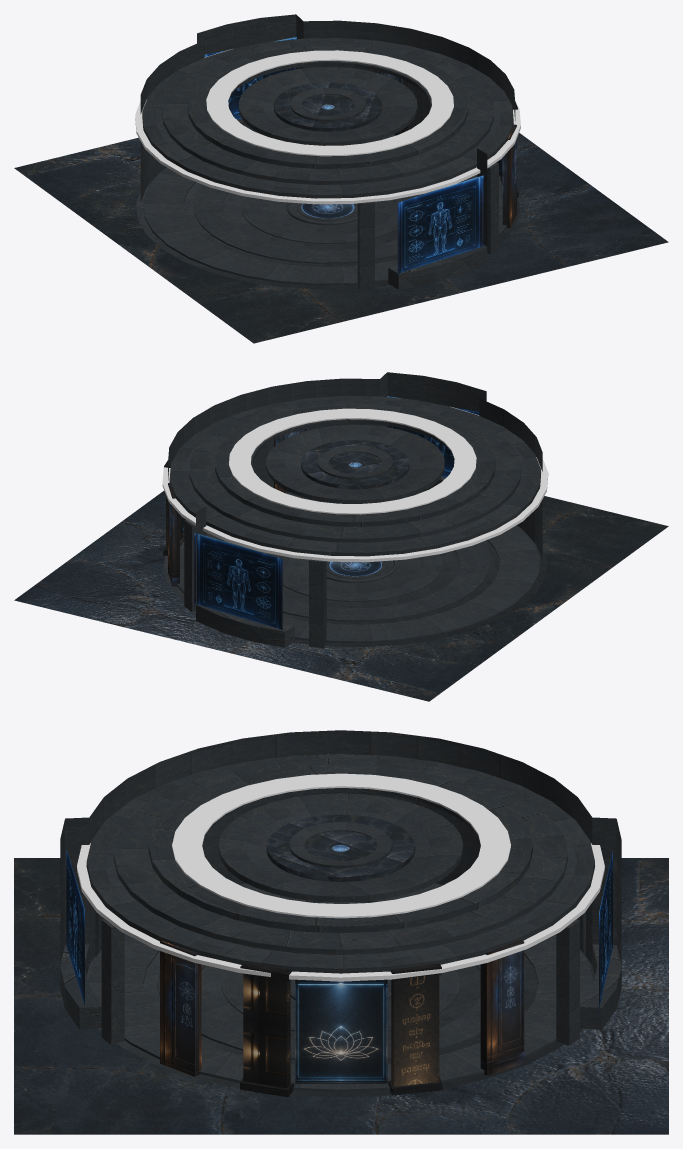
Rendered from Environment_Room.fbx.
3 views of the same model, one above another, from view 1: azimuth 30°, elevation 25°; view 2: azimuth 150°, elevation 25°; view 3: azimuth 270°, elevation 25° (orthographic). The views are drawn at different scales.
Visible parts, largest first — view 1: Plane, Wall, Selling_Two, Selling_one, Selling_Three, Floor Ring, Selling_Emmision_Three, Selling_Four, Floor, Wall Terminal_one, Floor Ring_2, Selling_Six (+8 smaller); view 2: Plane, Wall, Selling_Two, Selling_one, Selling_Three, Floor Ring, Selling_Emmision_Three, Selling_Four, Floor, Wall Terminal, Floor Ring_2, Selling_Six (+8 smaller); view 3: Plane, Wall, Selling_Two, Selling_one, Selling_Three, Selling_Emmision_Three, Selling_Four, Floor Ring, Stone Frame_Center, Floor, Stone Frame_Two, Stone Frame_one (+11 smaller).
Part boxes in pixels (x1,y1,x2,y2): Plane: (14,133,668,343); Wall: (140,14,515,289); Selling_Two: (162,40,493,184); Selling_one: (142,38,513,198); Selling_Three: (187,45,468,168); Floor Ring: (143,133,506,285); Selling_Emmision_Three: (206,50,453,156); Selling_Four: (238,67,417,145); Floor: (136,174,519,289); Wall Terminal_one: (397,175,483,274); Floor Ring_2: (193,185,442,263); Selling_Six: (273,82,382,131); Plane: (14,491,668,701); Wall: (168,372,542,647); Selling_Two: (189,398,521,542); Selling_one: (169,396,540,556); Selling_Three: (215,403,495,526); Floor Ring: (176,491,540,643); Selling_Emmision_Three: (229,408,476,514); Selling_Four: (266,424,444,503); Floor: (163,531,546,646); Wall Terminal: (194,532,282,629); Floor Ring_2: (230,543,489,621); Selling_Six: (301,440,409,489); Plane: (14,858,668,1134); Wall: (60,730,621,1029); Selling_Two: (113,757,567,954); Selling_one: (86,754,594,973); Selling_Three: (148,764,532,933); Selling_Emmision_Three: (172,773,510,918); Selling_Four: (218,793,463,902); Floor Ring: (88,883,593,1092); Stone Frame_Center: (295,979,387,1083); Floor: (87,902,594,1097); Stone Frame_Two: (240,964,294,1097); Stone Frame_one: (388,963,442,1095).
Size of the model in its own units: 18.86 by 4.89 by 18.86.
34 materials, 29 textured.
